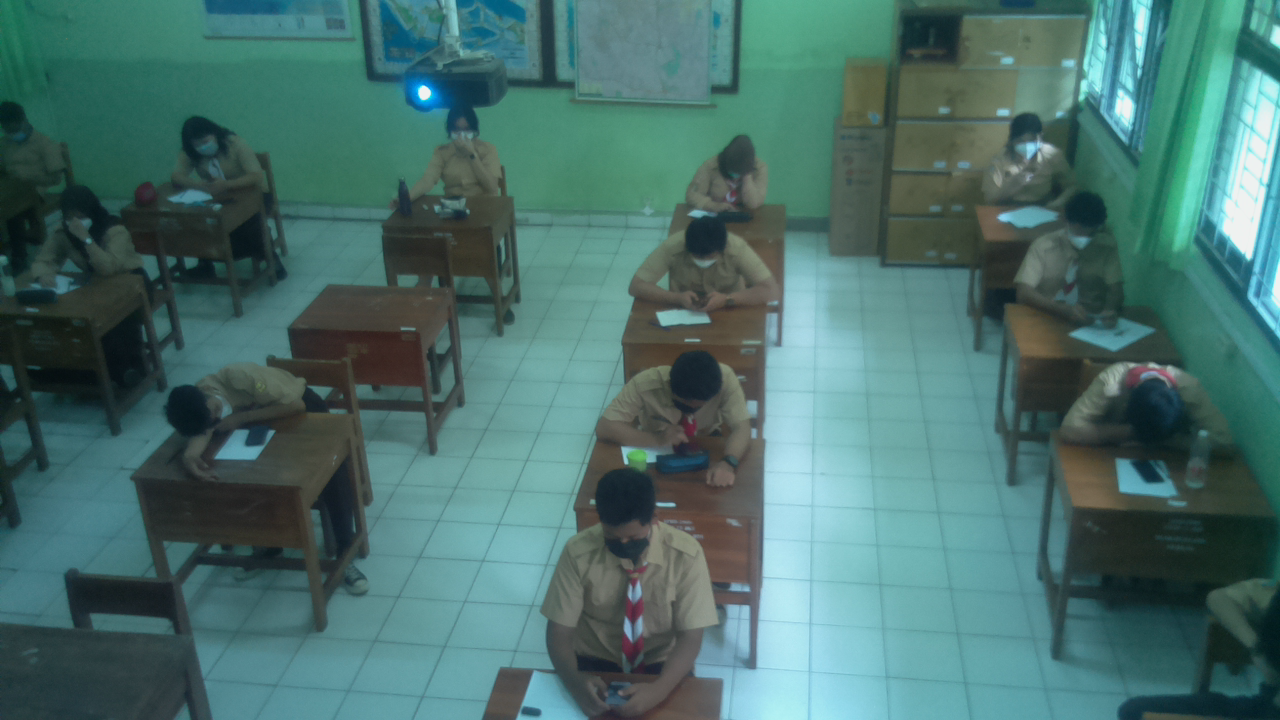Student: (551, 463, 702, 665), (625, 349, 743, 445), (1075, 365, 1209, 445), (165, 363, 314, 431), (1029, 195, 1122, 302), (657, 211, 757, 300), (47, 187, 135, 280), (173, 115, 264, 192), (993, 115, 1074, 200), (423, 115, 504, 196), (0, 103, 72, 189), (689, 137, 766, 216)
